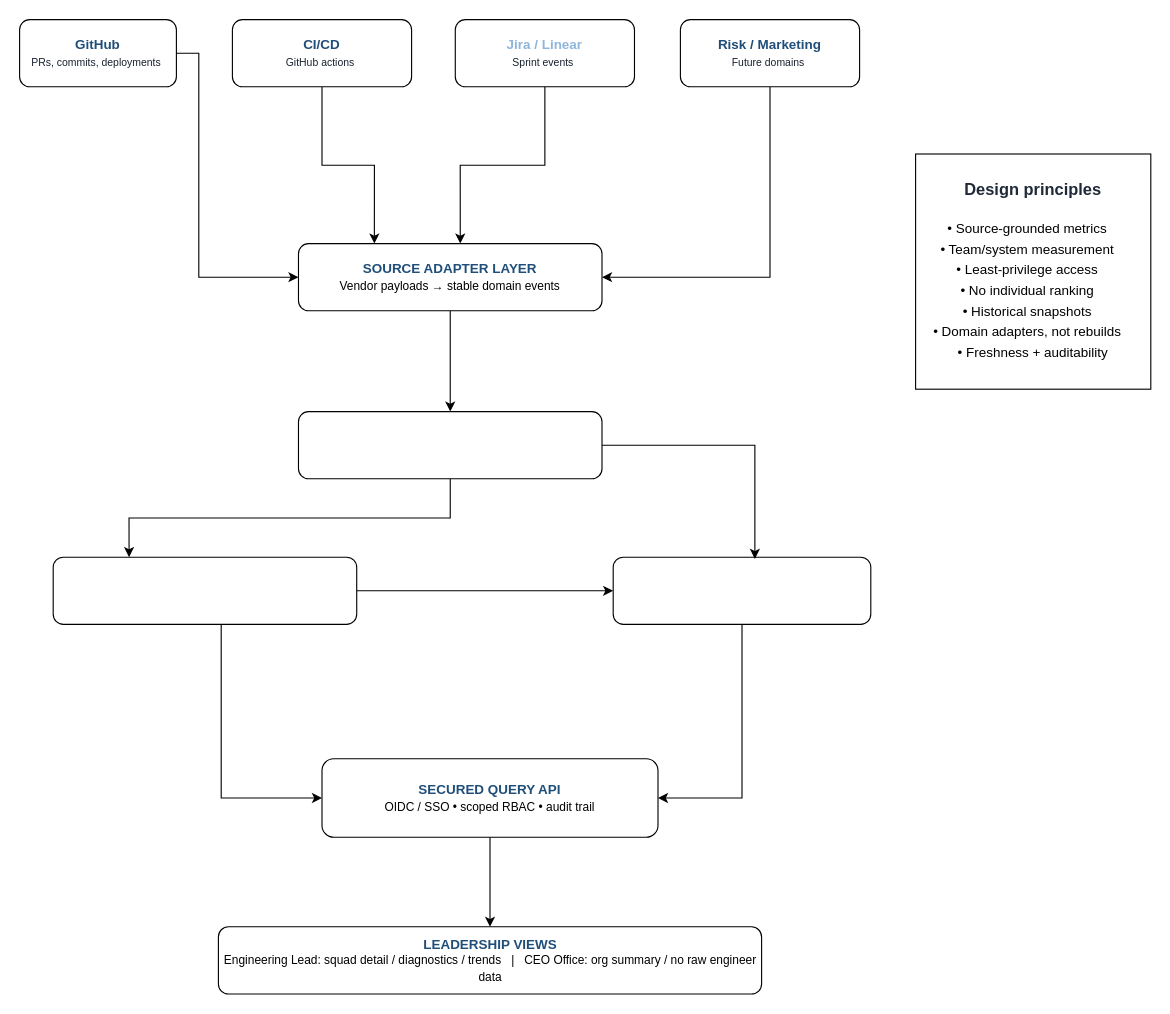
The diagram is 1170 pixels wide and 1014 high, and some of its shapes have lost their labels. The shapes that lost their labels are listed below. From the top down, each one's centre as x and y in pixels, then its label:
the point at 449,444: INGESTION PIPELINE Webhooks + scheduled reconciliation + idempotency
the point at 204,590: NORMALIZED EVENT STORE Auditable ground-truth events
the point at 741,590: METRIC ENGINE + SNAPSHOTS 7 / 14 / 28-day trends + DORA metrics
